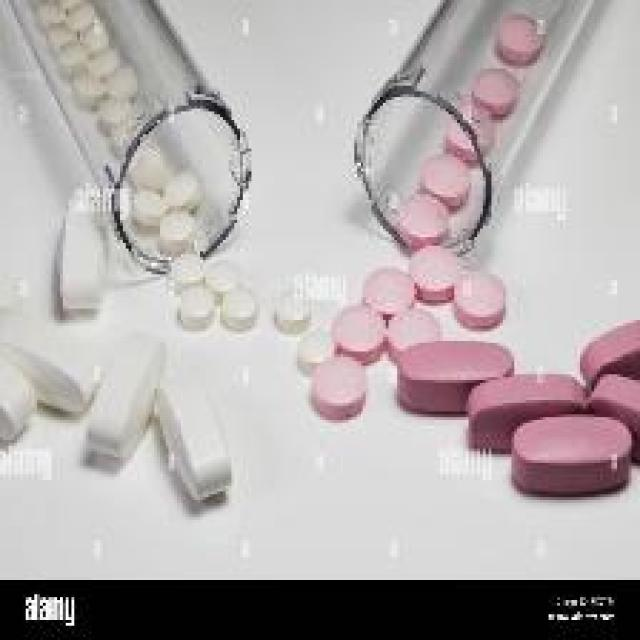Medicine: (0, 0, 640, 526)
